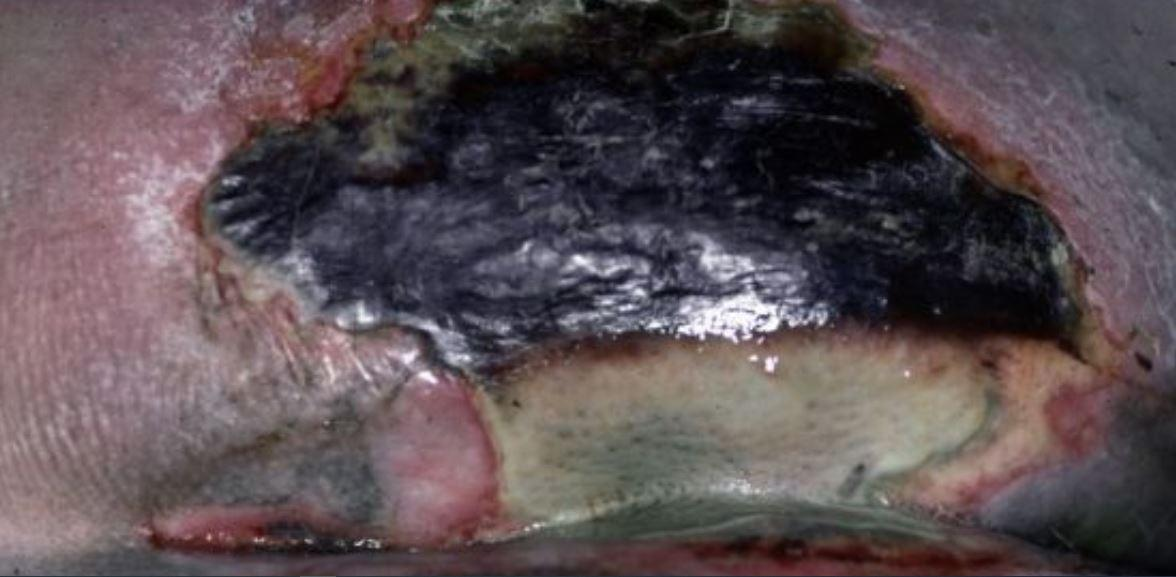Stage4: (174, 0, 1113, 464)
